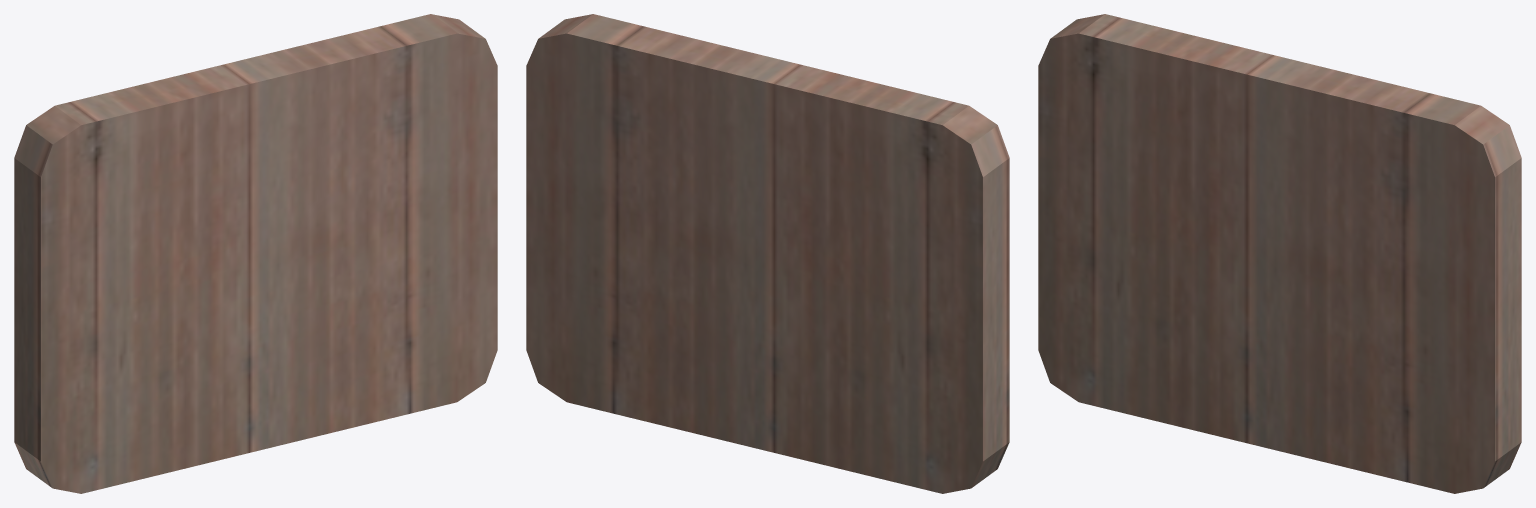
Rendered from TDB_NoteBoard.fbx.
3 renders of one model, left to right at view 1: azimuth 30°, elevation 25°; view 2: azimuth 150°, elevation 25°; view 3: azimuth 330°, elevation 25°, orthographic.
Visible parts, largest first — view 1: Board; view 2: Board; view 3: Board.
Part boxes in pixels (x1,y1,x2,y2): Board: (14,14,497,493); Board: (526,14,1009,493); Board: (1038,14,1521,493).
Bounding box in the file's own units: 0.4391 × 0.0444 × 0.3388.
